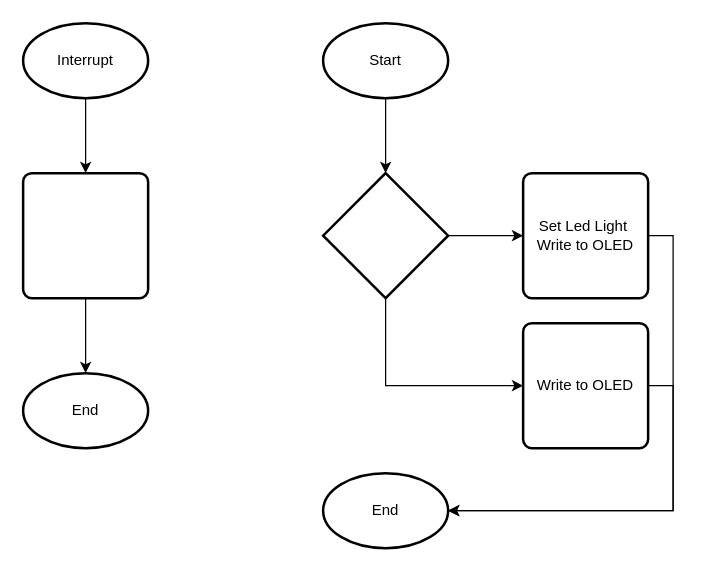
Image size: 705x570. Some labels were removed from this diagram. The shapes that lost their labels are listed below. From the top down, each one's centre as x and y in pixels, then its label:
At point 85,235: "doorLocked = !doorLocked".
At point 385,235: "doorLocked = true".
